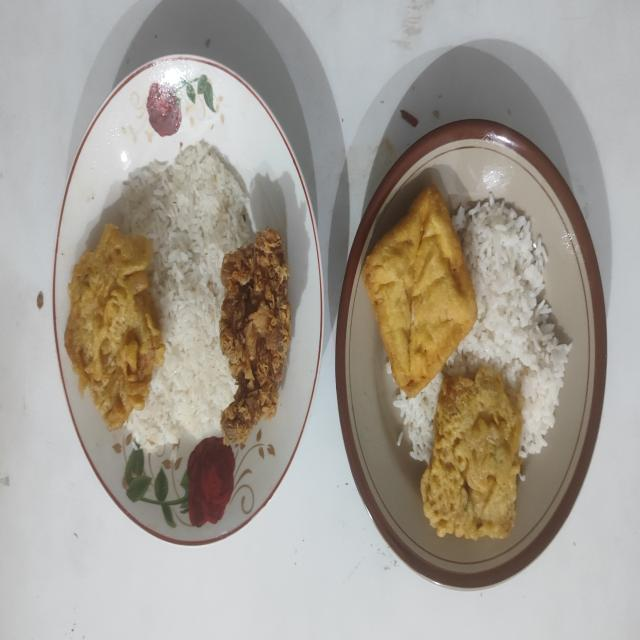nasi_putih: (120, 140, 254, 449), (446, 193, 572, 458), (394, 376, 440, 461)
tahu_goreng: (362, 185, 478, 396)
